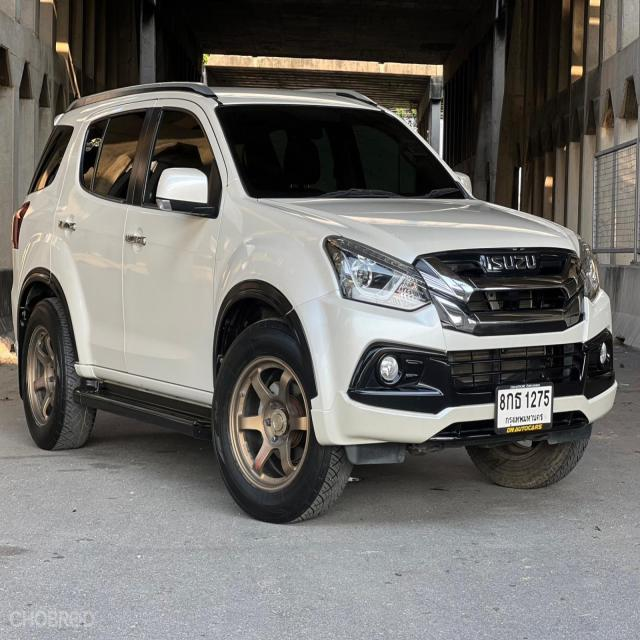license_plate: (494, 377, 558, 444)
